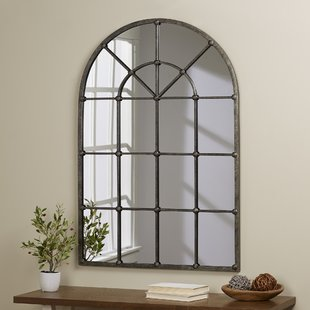Nonrec_Glass: (64, 13, 249, 272)
